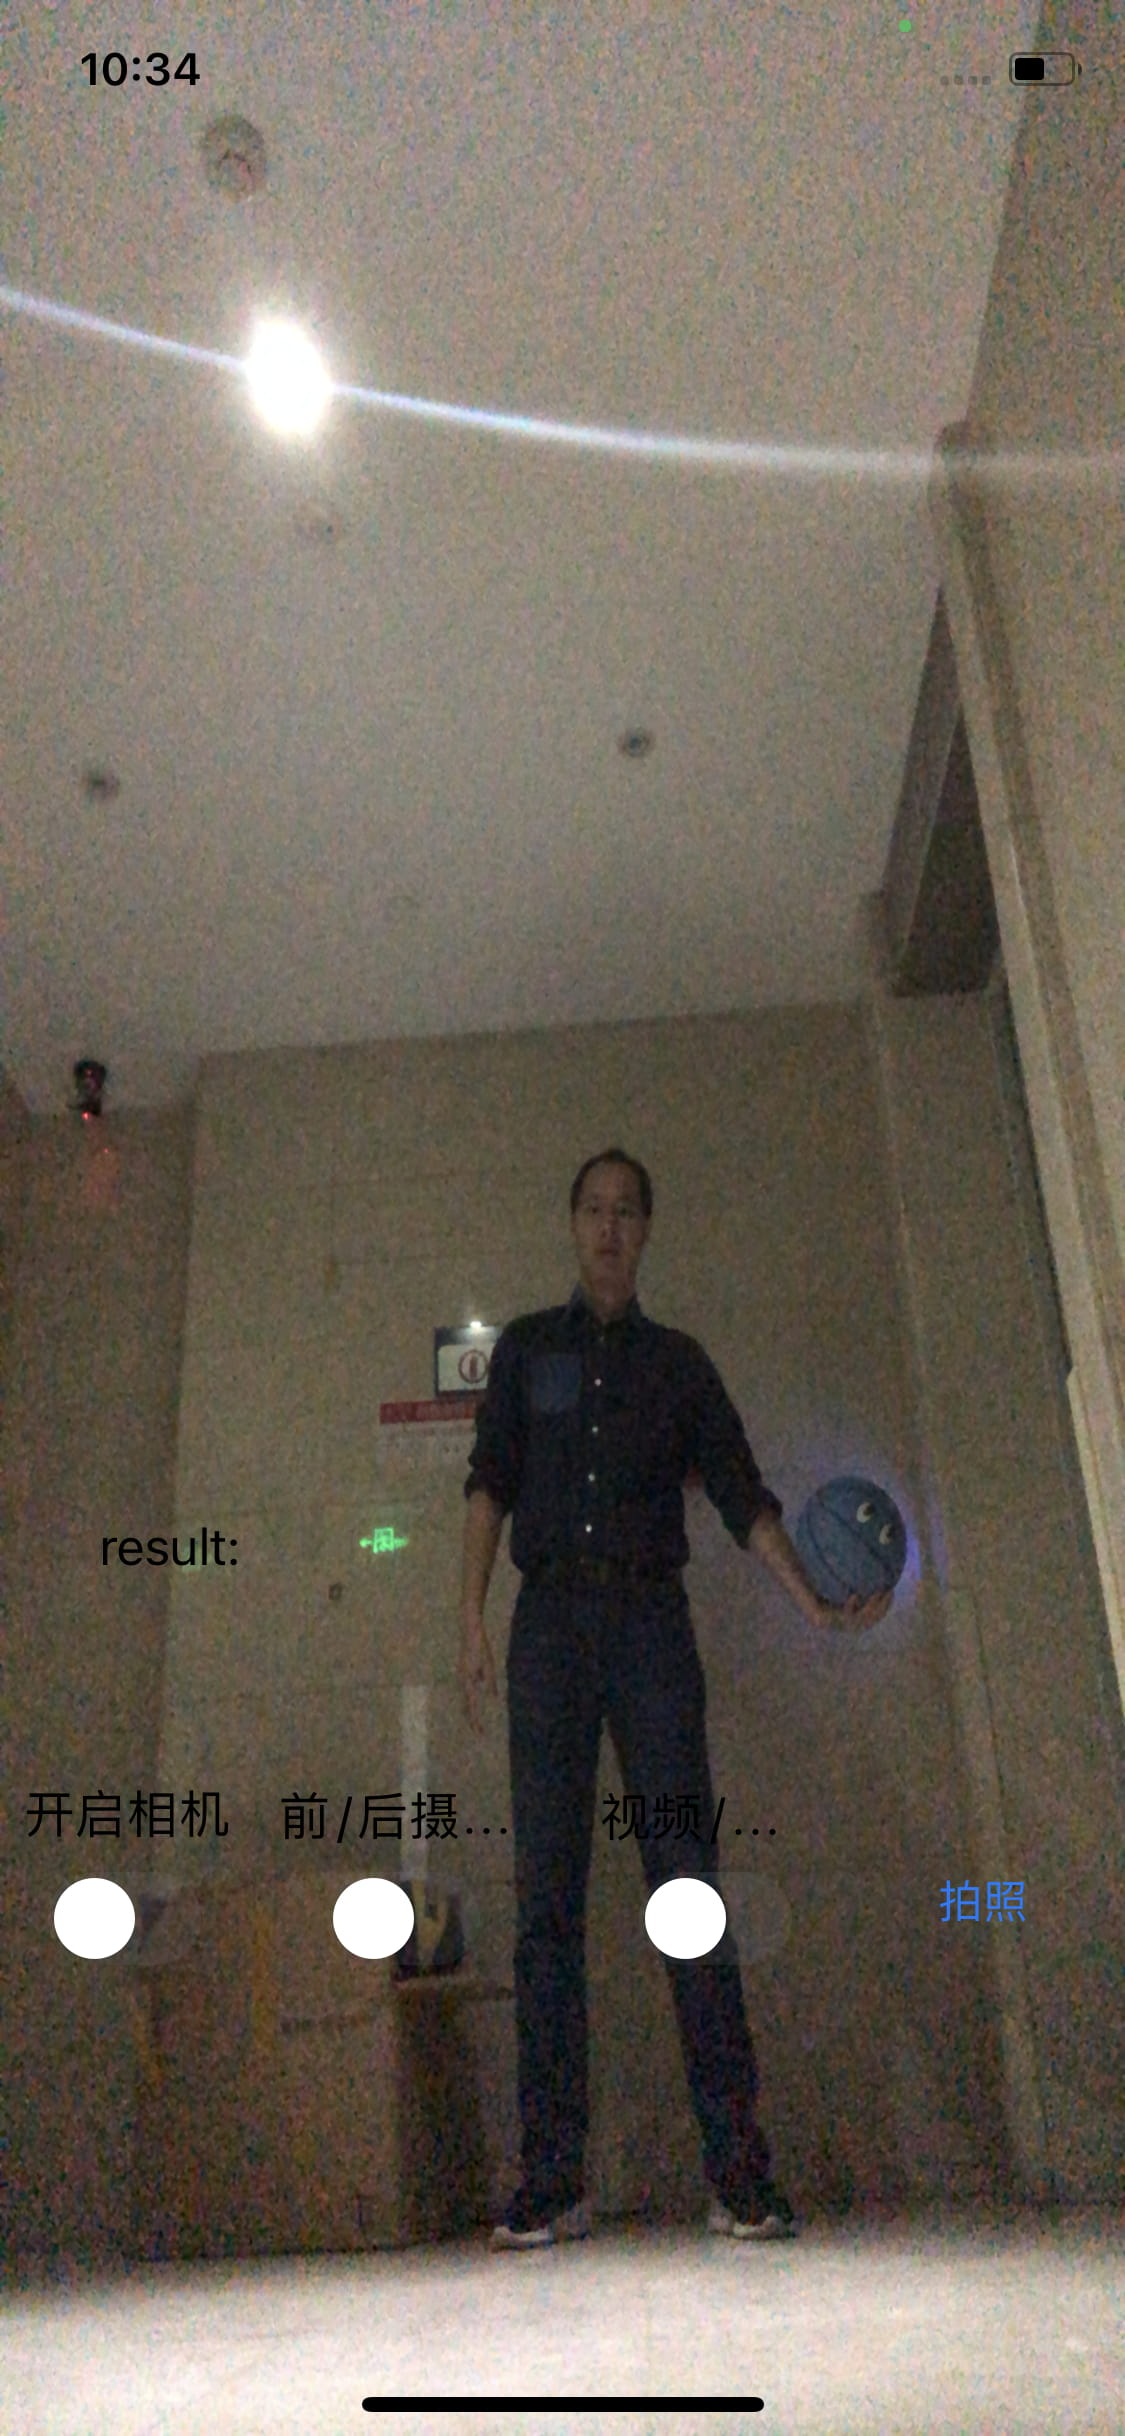ball: (789, 1474, 912, 1609)
